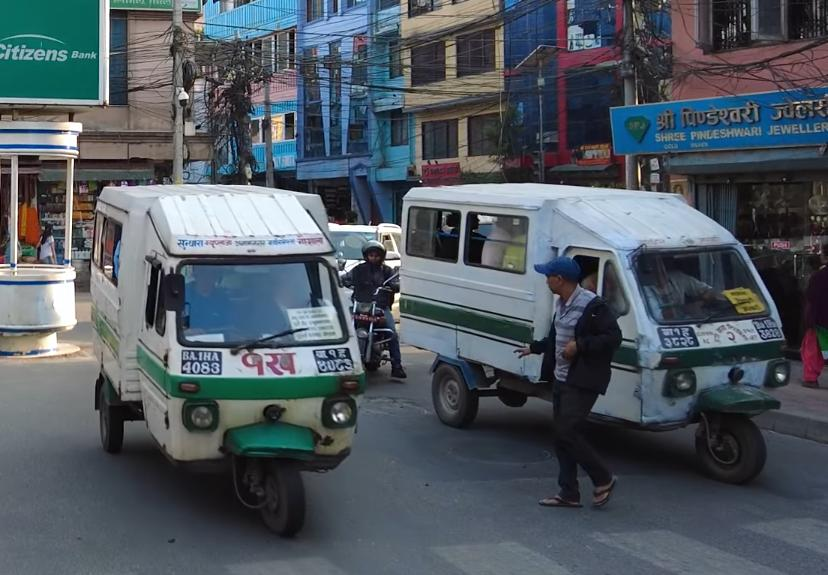bike: (336, 267, 403, 387)
tempo: (393, 178, 793, 490), (82, 179, 371, 543)
